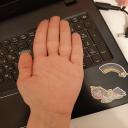OpenPalm: (16, 15, 88, 115)
